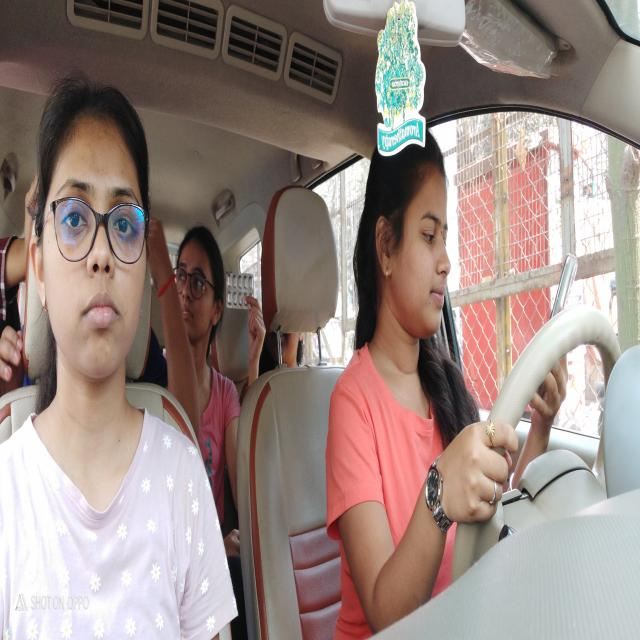mobile: (549, 247, 588, 336)
person: (22, 56, 160, 416), (374, 115, 468, 360), (170, 208, 230, 364), (553, 303, 553, 308)
